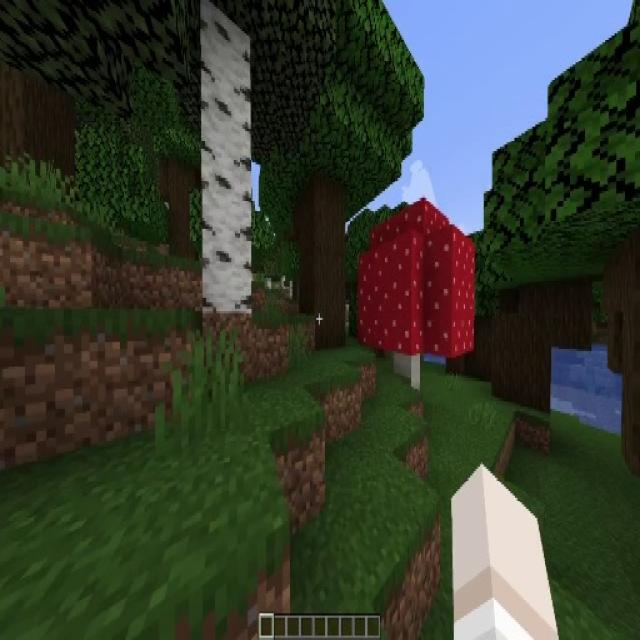birch: (149, 0, 329, 307)
birch_log: (200, 6, 251, 313)
dark_oak: (264, 0, 426, 351)
dark_oak_log: (449, 280, 582, 401), (296, 182, 344, 342), (166, 167, 191, 250)
